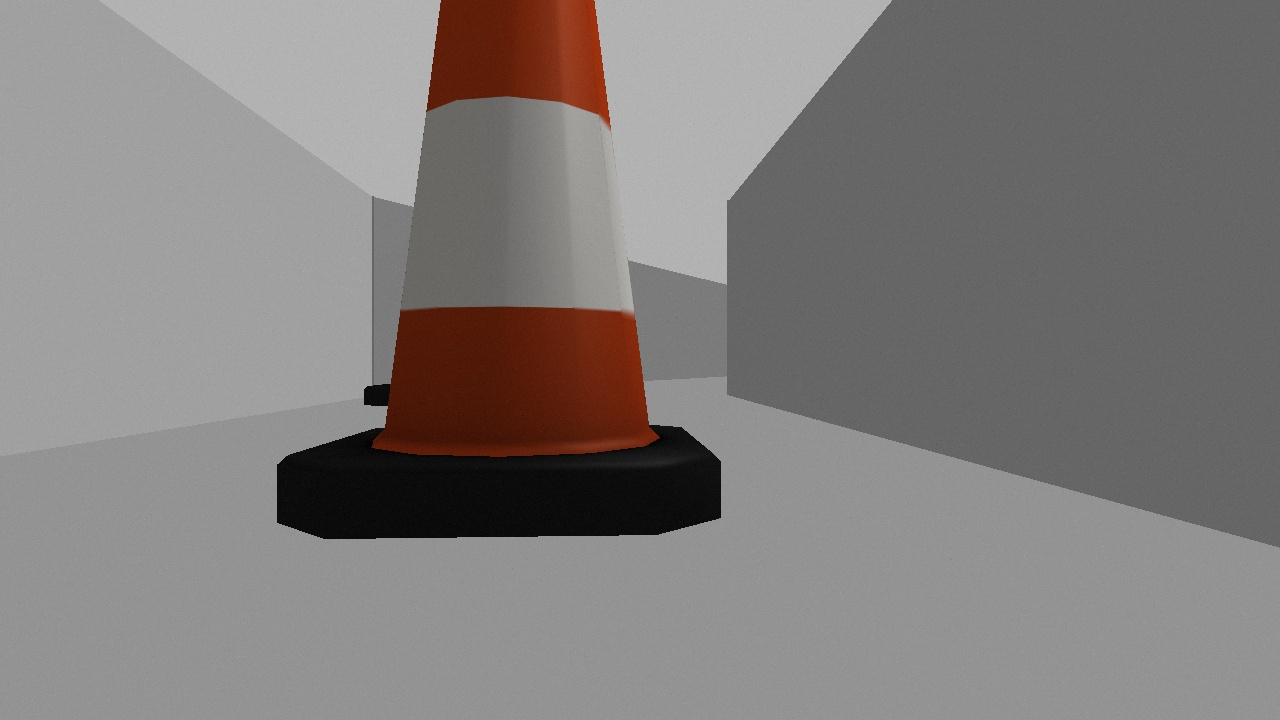barricade: (259, 1, 731, 558)
